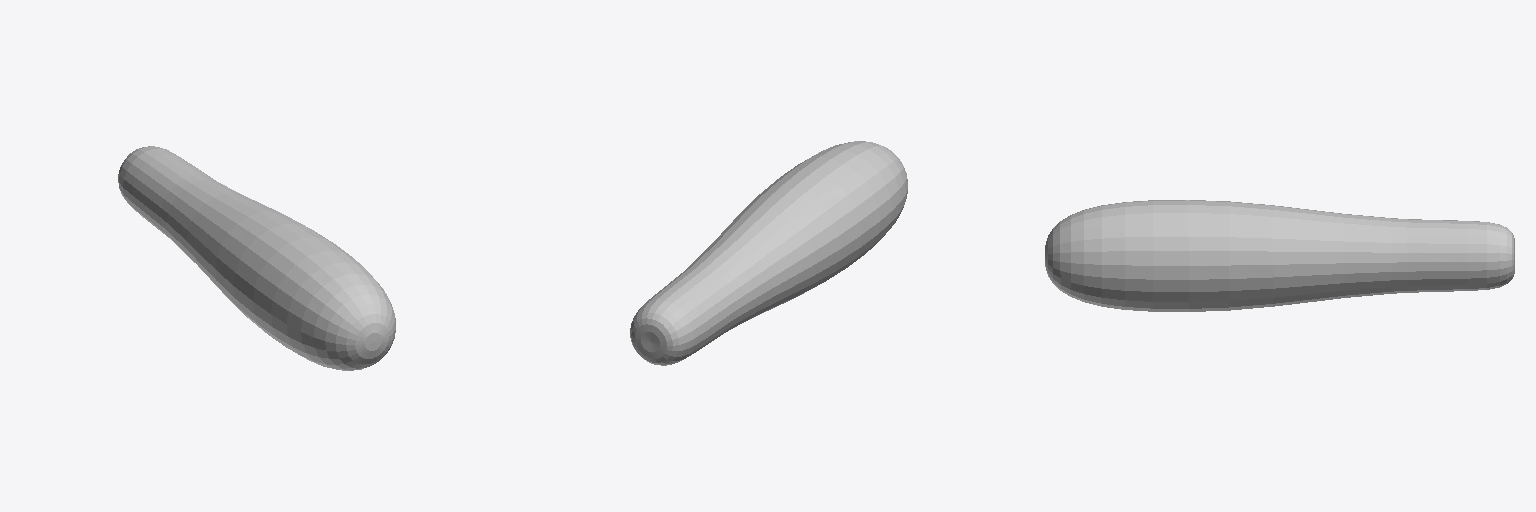
Rendered from lowerArm_ascii.obj.
3 views of the same model, side by side, from view 1: azimuth 30°, elevation 25°; view 2: azimuth 150°, elevation 25°; view 3: azimuth 270°, elevation 25° (orthographic).
Visible parts, largest first — view 1: Object__0; view 2: Object__0; view 3: Object__0.
Boxes of the visible parts, <box> form: Object__0: <box>118,146,395,370</box>; Object__0: <box>630,141,907,365</box>; Object__0: <box>1045,200,1514,311</box>.
Bounding box in the file's own units: 0.0721 × 0.0721 × 0.3006.